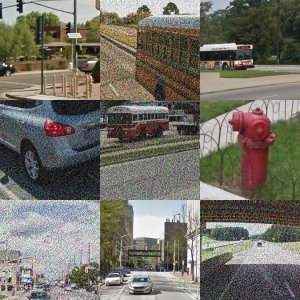公車: (132, 13, 201, 101), (103, 104, 173, 146), (200, 39, 259, 73)
汽車: (1, 101, 101, 189), (126, 276, 156, 295)
消防栓: (225, 108, 278, 198)
紅綠燈: (24, 10, 55, 50), (1, 1, 42, 19)
